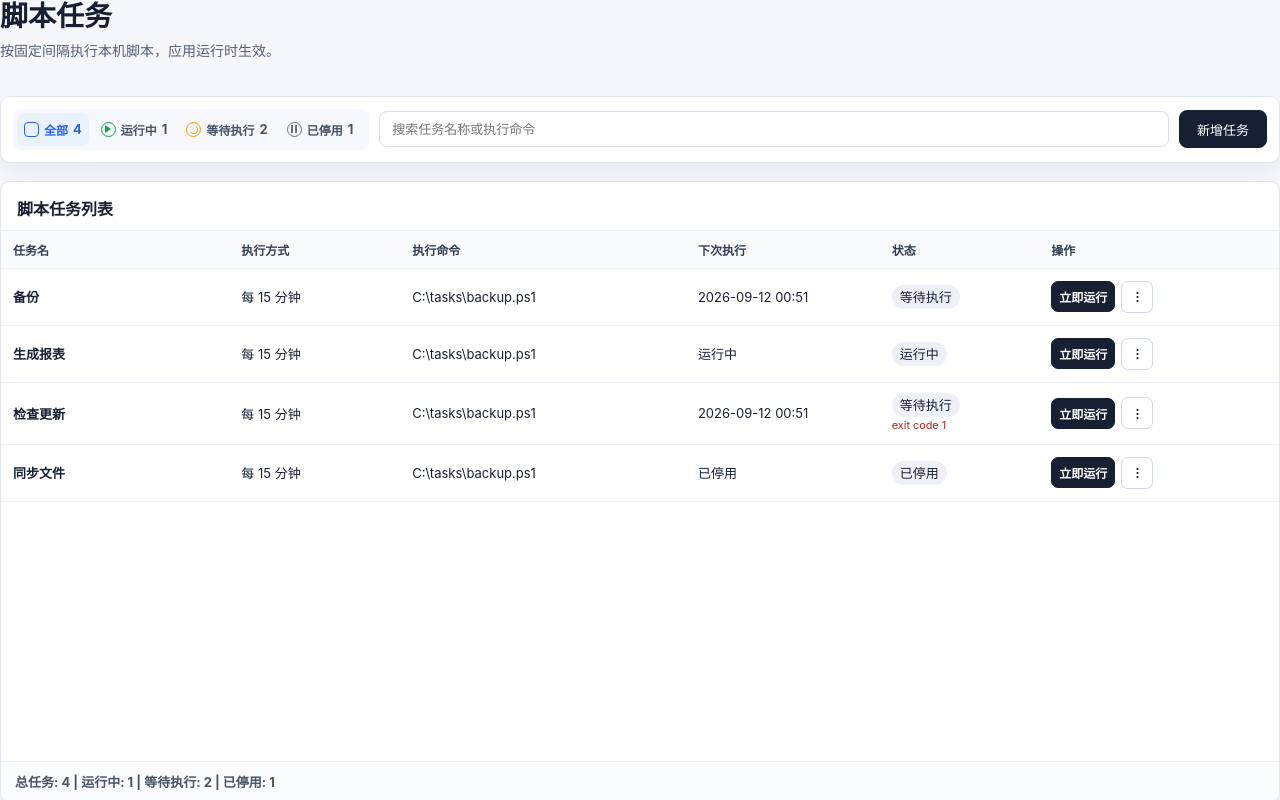
Test: validates required fields before creating
This screenshot has width=1280, height=800.
Step 1. Click the button "新增任务" → (1223, 129), box [1179,110,1267,148]
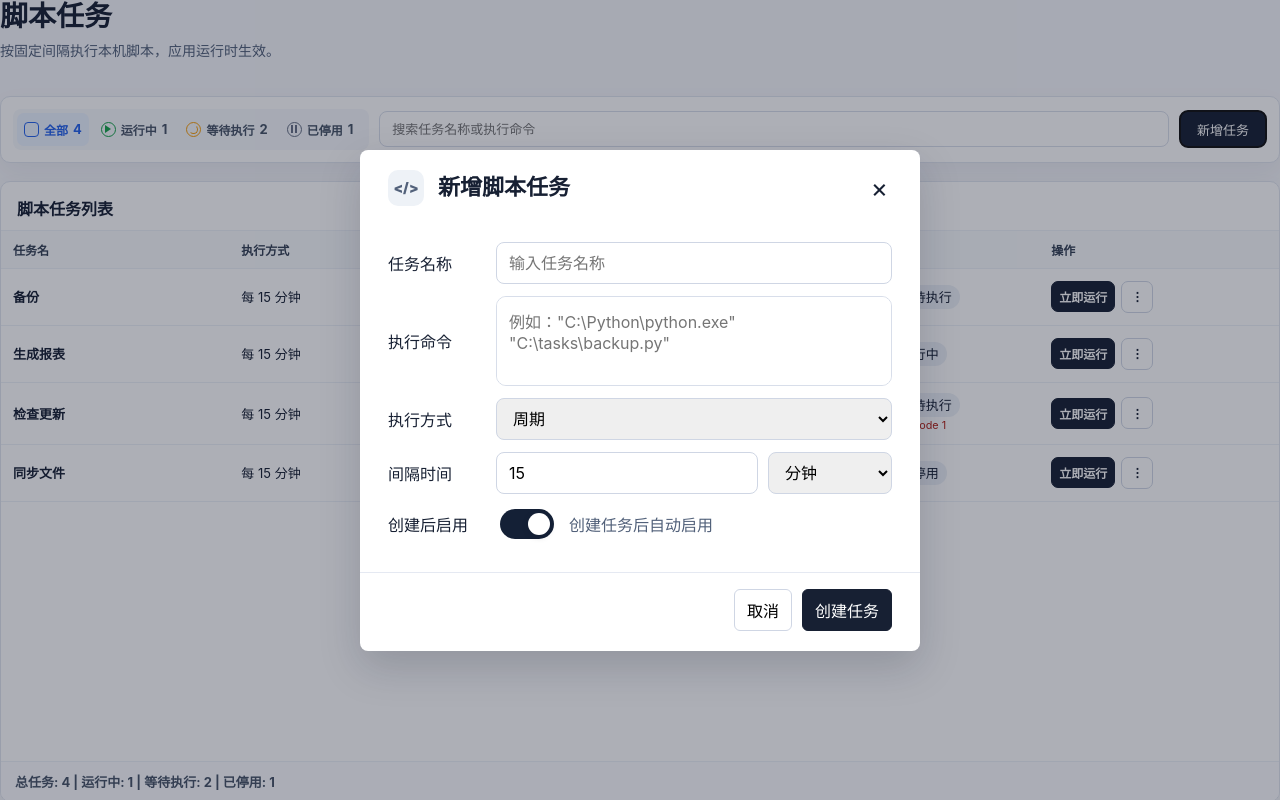
Expected: the dialog "新增脚本任务" is shown, [360,150,920,650]
Step 2. Click the button "创建任务" → (847, 610), box [802,588,892,630]
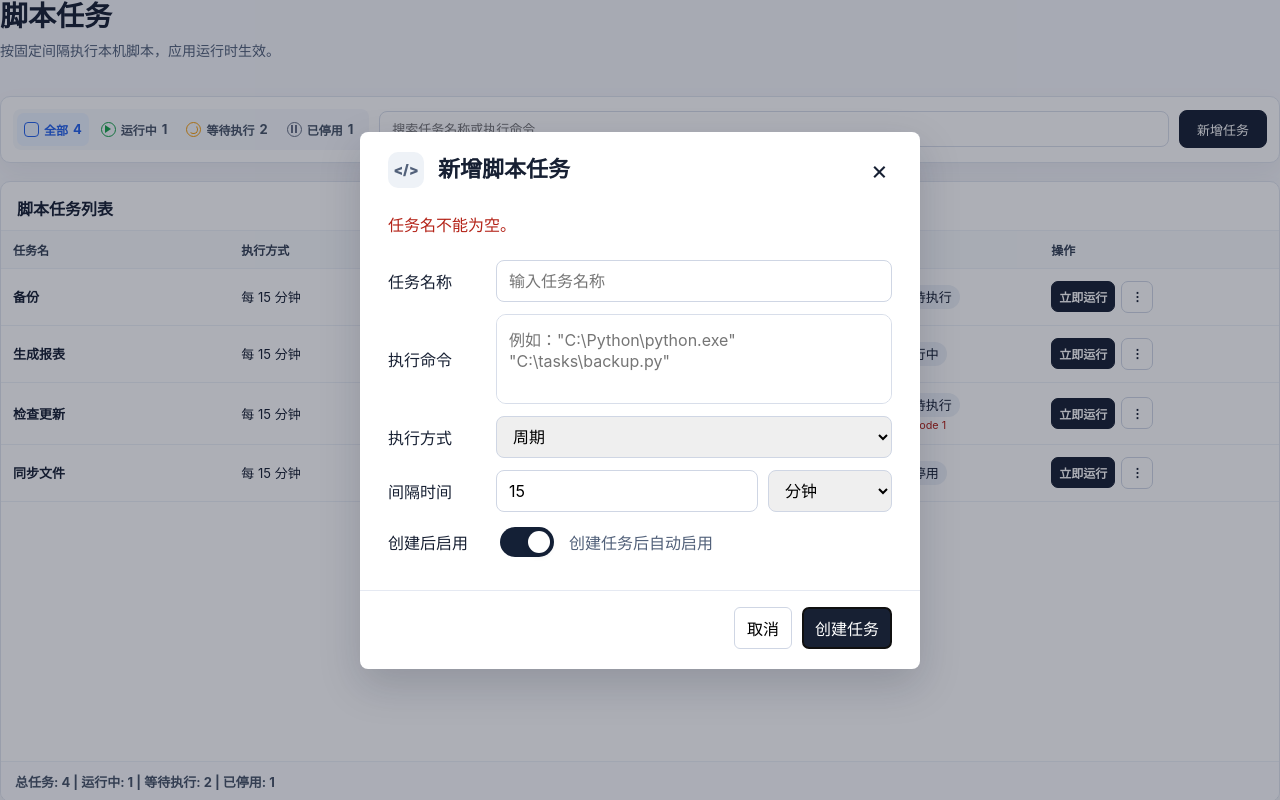
Expected: the text "任务名不能为空。" is shown, [388,214,516,234]
